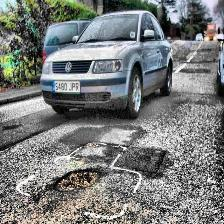pothole: (54, 167, 102, 195)
